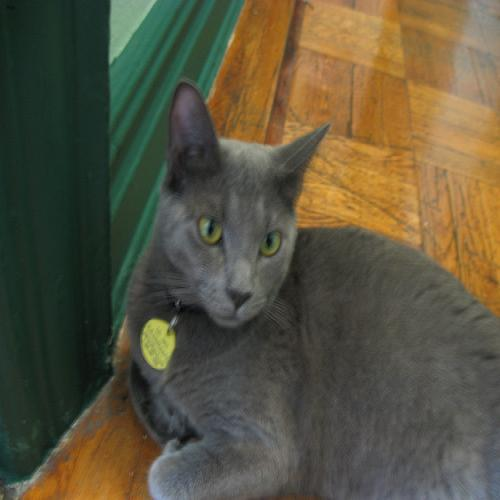rblue: (153, 64, 339, 342)
